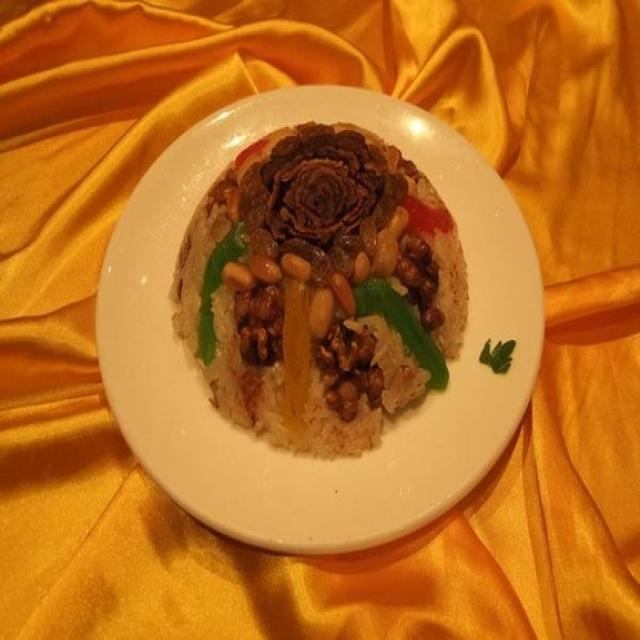米饭主食: (172, 120, 477, 461)
